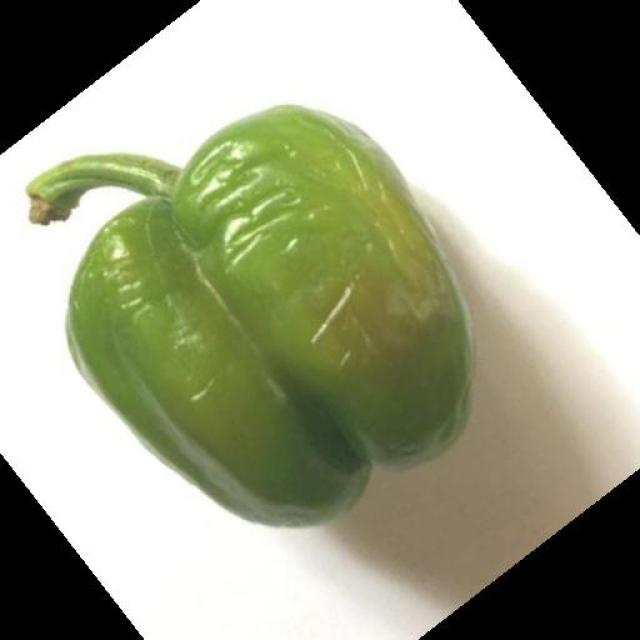Stale_Capsicum: (31, 103, 459, 466)
